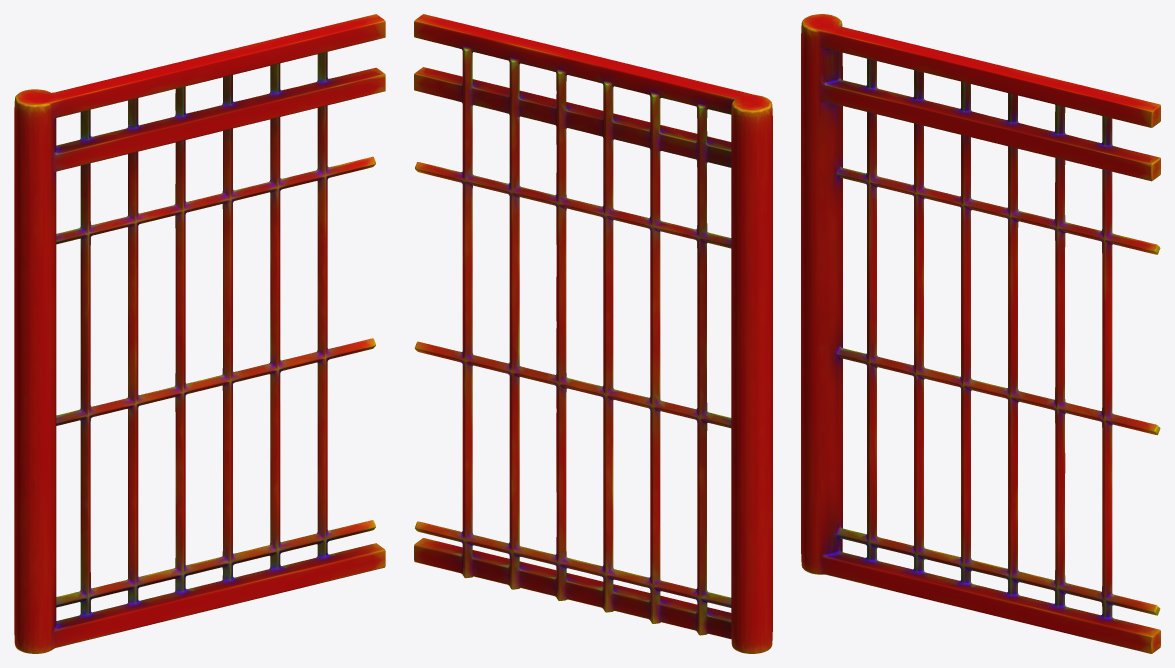
The model's file is WallHalf.fbx.
3 renders of one model, left to right at view 1: azimuth 30°, elevation 25°; view 2: azimuth 150°, elevation 25°; view 3: azimuth 330°, elevation 25°, orthographic.
Parts seen in each view (by area): view 1: transform1; view 2: transform1; view 3: transform1.
Boxes of the visible parts, x1,y1,x2,y2 form: transform1: [14, 14, 385, 653]; transform1: [414, 14, 772, 653]; transform1: [801, 14, 1160, 653].
Bounding box in the file's own units: 261 × 26.31 × 380.
